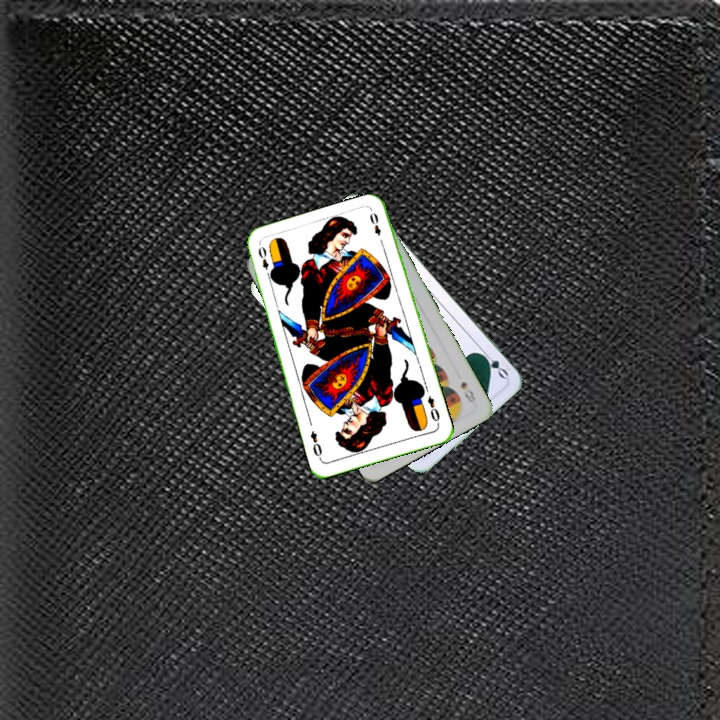EO: (254, 243, 275, 281), (423, 392, 442, 424)
GO: (476, 347, 511, 382)
S8: (456, 377, 478, 405)
